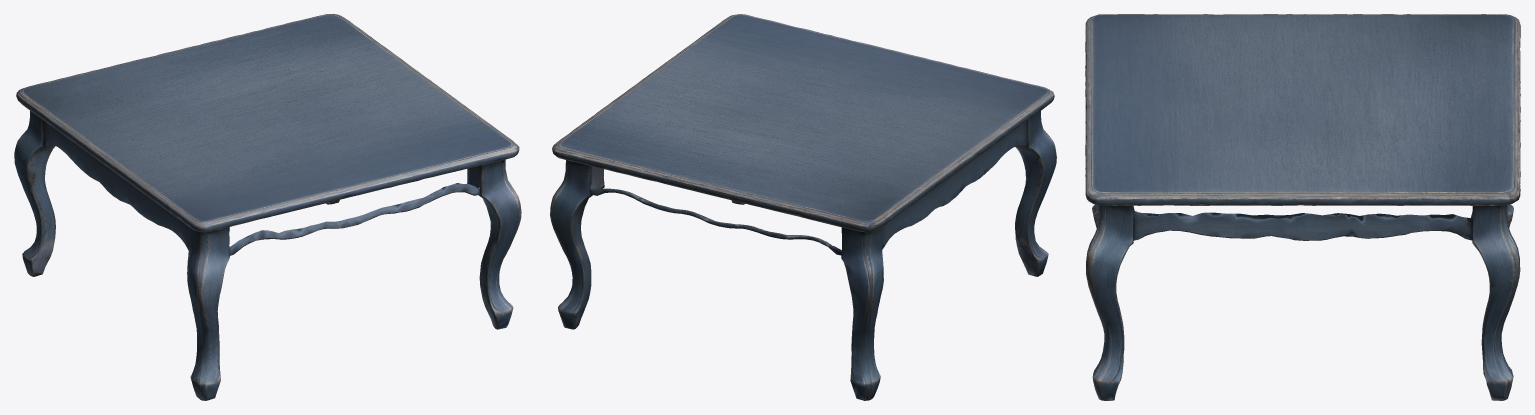
The model's file is VAR_Bedroom_CurvedLowTable.fbx.
3 views of the same model, side by side, from view 1: azimuth 30°, elevation 25°; view 2: azimuth 150°, elevation 25°; view 3: azimuth 270°, elevation 25° (orthographic). The views are drawn at different scales.
Visible parts, largest first — view 1: texture_mapping; view 2: texture_mapping; view 3: texture_mapping.
Part boxes in pixels (box(x1,y1,x2,y2)): texture_mapping: box(14, 14, 521, 400); texture_mapping: box(550, 14, 1056, 400); texture_mapping: box(1085, 14, 1520, 400).
Bounding box in the file's own units: 0.9999 × 0.9996 × 0.5358.
Materials: 1 (1 with a texture image).
